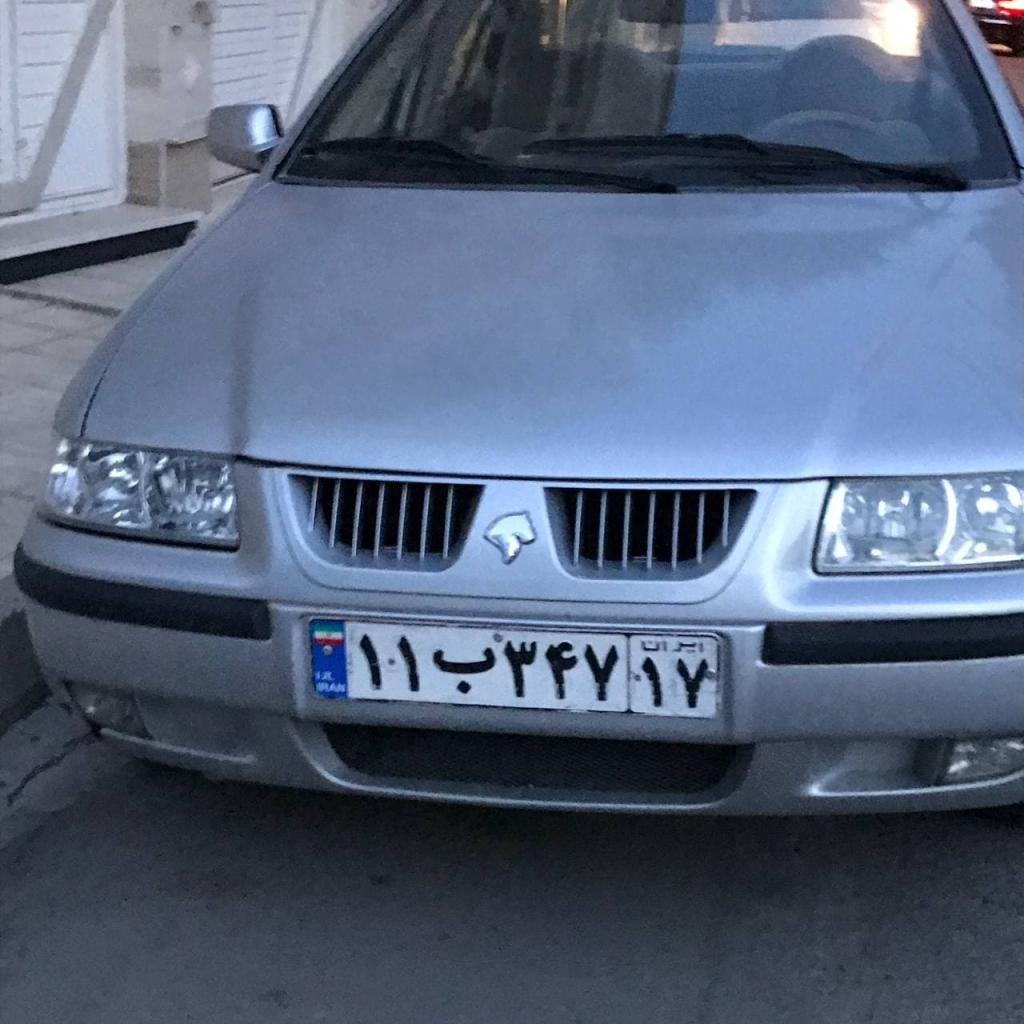Plates: (312, 619, 719, 719)
